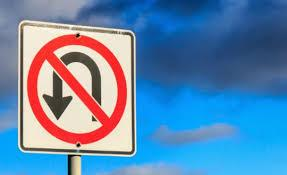no_u_turn: (25, 33, 126, 143)
